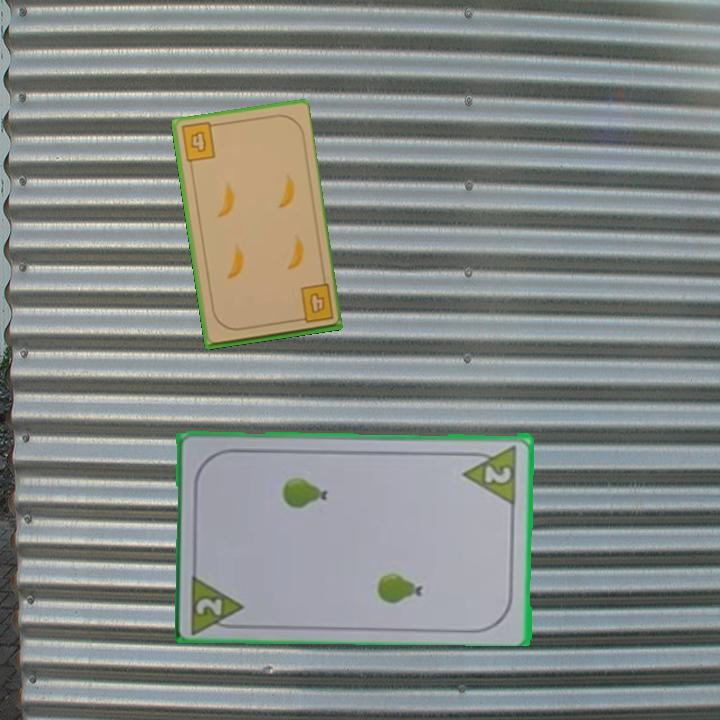2p: (187, 569, 248, 634), (481, 462, 515, 486)
4b: (291, 281, 336, 326), (178, 119, 220, 165)
